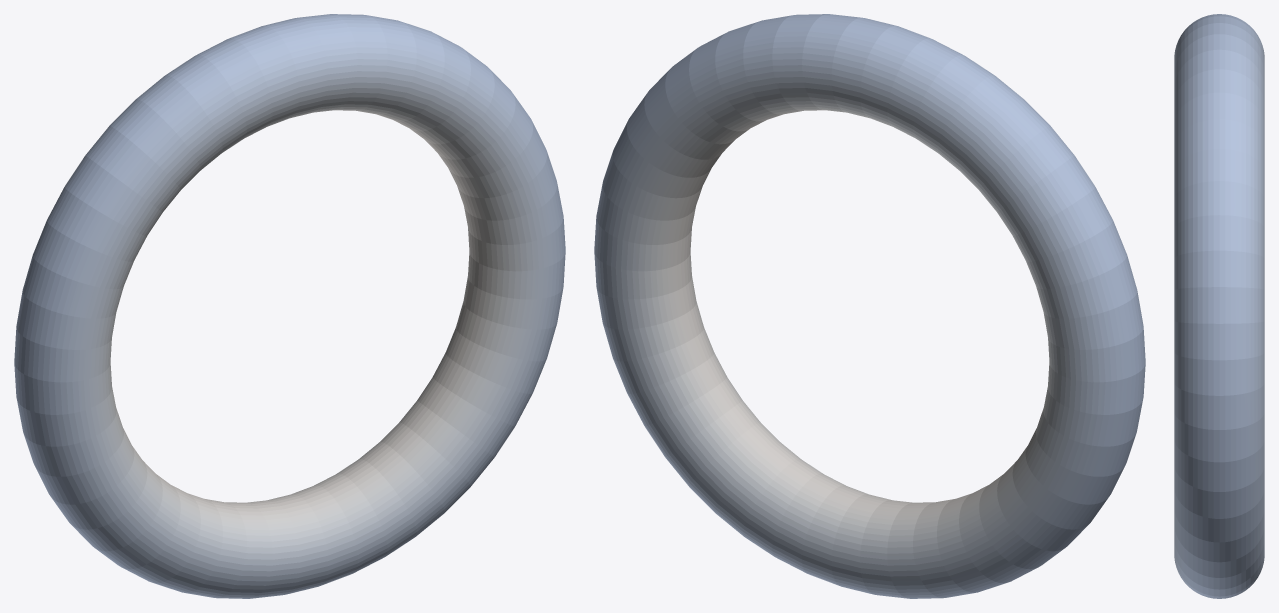
3 renders of one model, left to right at view 1: azimuth 30°, elevation 25°; view 2: azimuth 150°, elevation 25°; view 3: azimuth 270°, elevation 25°, orthographic. The views are drawn at different scales.
Visible parts, largest first — view 1: world; view 2: world; view 3: world.
Part boxes in pixels (<box>): world: <box>14,14,565,598</box>; world: <box>594,14,1145,598</box>; world: <box>1174,14,1264,598</box>.
Size of the model in its own units: 28.4 by 28.34 by 4.39.
